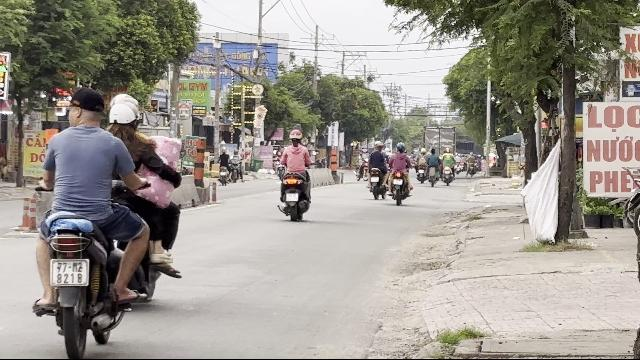helmet: (106, 93, 142, 137)
licenseplate: (51, 260, 87, 284)
motorcyclist: (25, 87, 179, 357)
nohelmet: (66, 88, 106, 127)
